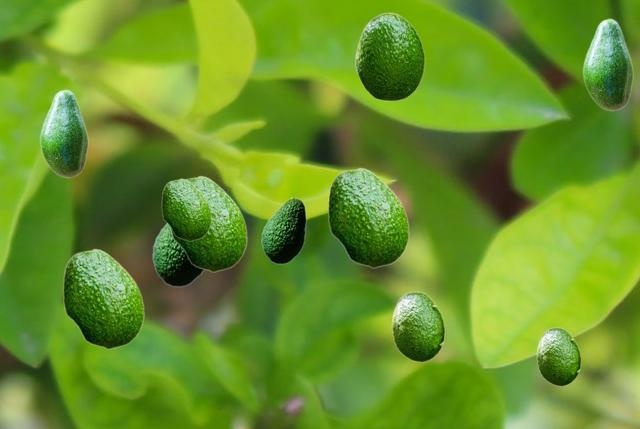avocado: (62, 248, 143, 348), (327, 167, 408, 267), (169, 175, 246, 271), (355, 12, 424, 100), (582, 18, 632, 110), (39, 89, 87, 177), (391, 291, 444, 361), (152, 223, 204, 286), (161, 178, 210, 240), (261, 197, 305, 263), (536, 327, 580, 385)
